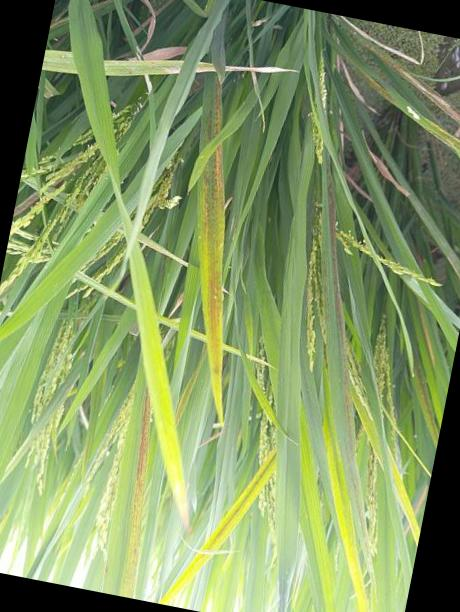Leaf Streak: (196, 143, 227, 425), (118, 387, 152, 599), (206, 450, 278, 550), (326, 158, 345, 351), (413, 361, 438, 447), (342, 332, 357, 457), (201, 71, 222, 153), (120, 59, 184, 74), (226, 65, 300, 75), (196, 62, 217, 74)
